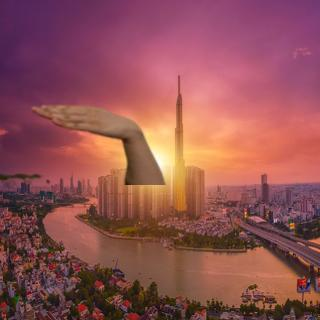WAIT: (28, 98, 137, 140)
